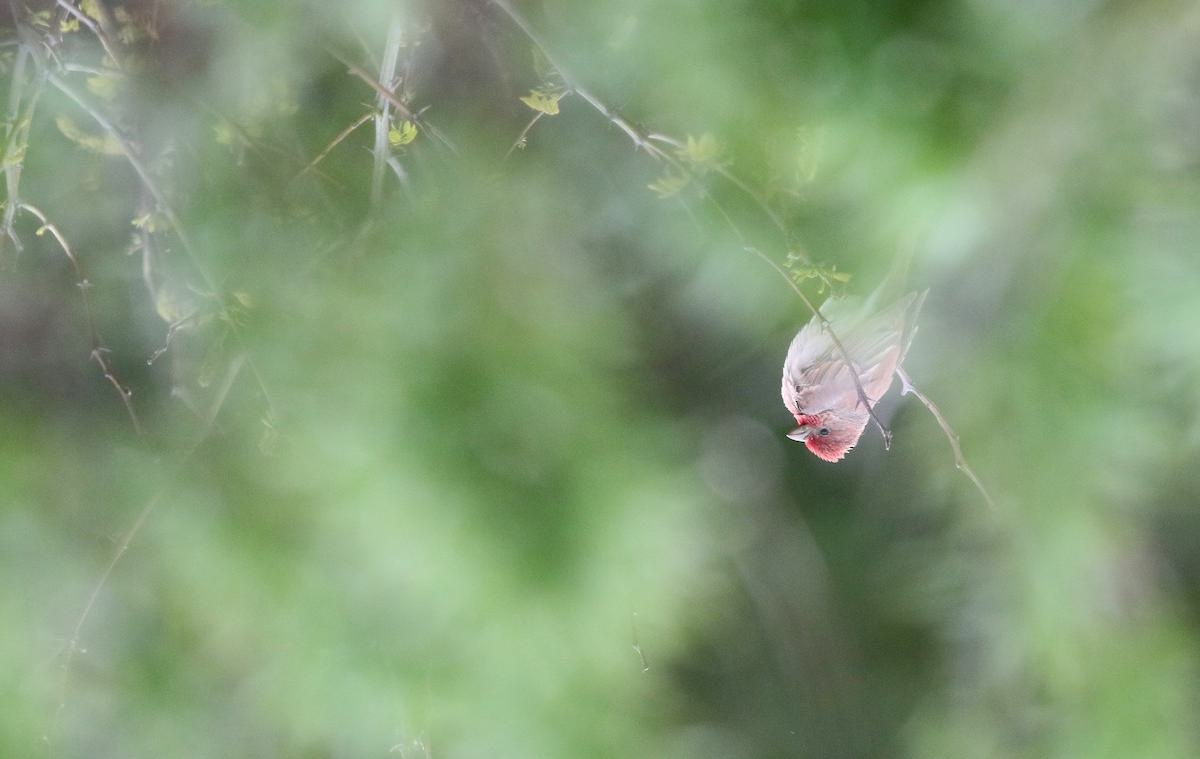rosefinch: (770, 236, 956, 460)
